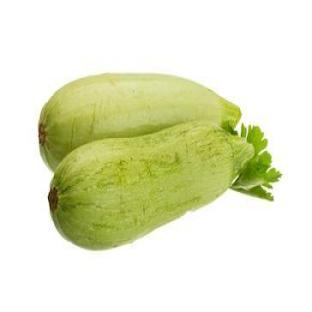Zucchini: (49, 122, 254, 249), (39, 75, 240, 170)
